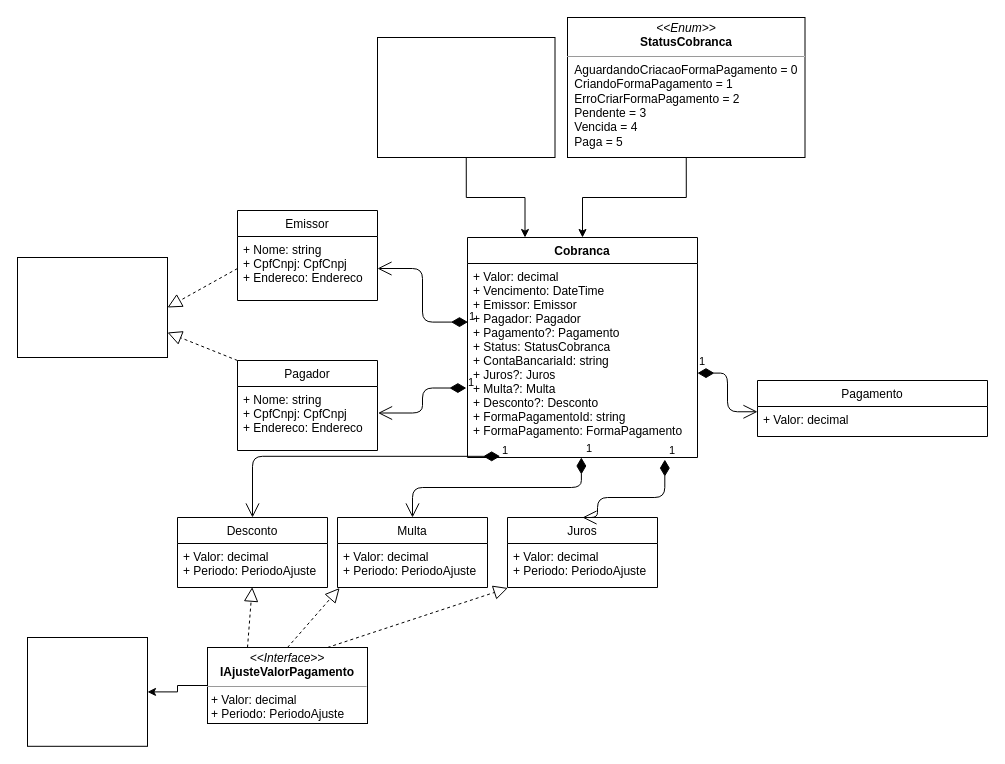
Some shapes in this 1005 by 764 pixel diagram are drawn without their labels. Each missing label, with the centre of its shape:
"<<Enum>> FormaPagamento Boleto = 0 Cartao = 1" goes at point 465,97.
"<<Enum>> PeriodoAjuste AoDia = 0 AoMes = 1 AoAno = 2" goes at point 87,691.
"<<Interface>> IEntidade + Nome: string + CpfCnpj: CpfCnpj + Endereco: Endereco" goes at point 92,307.
